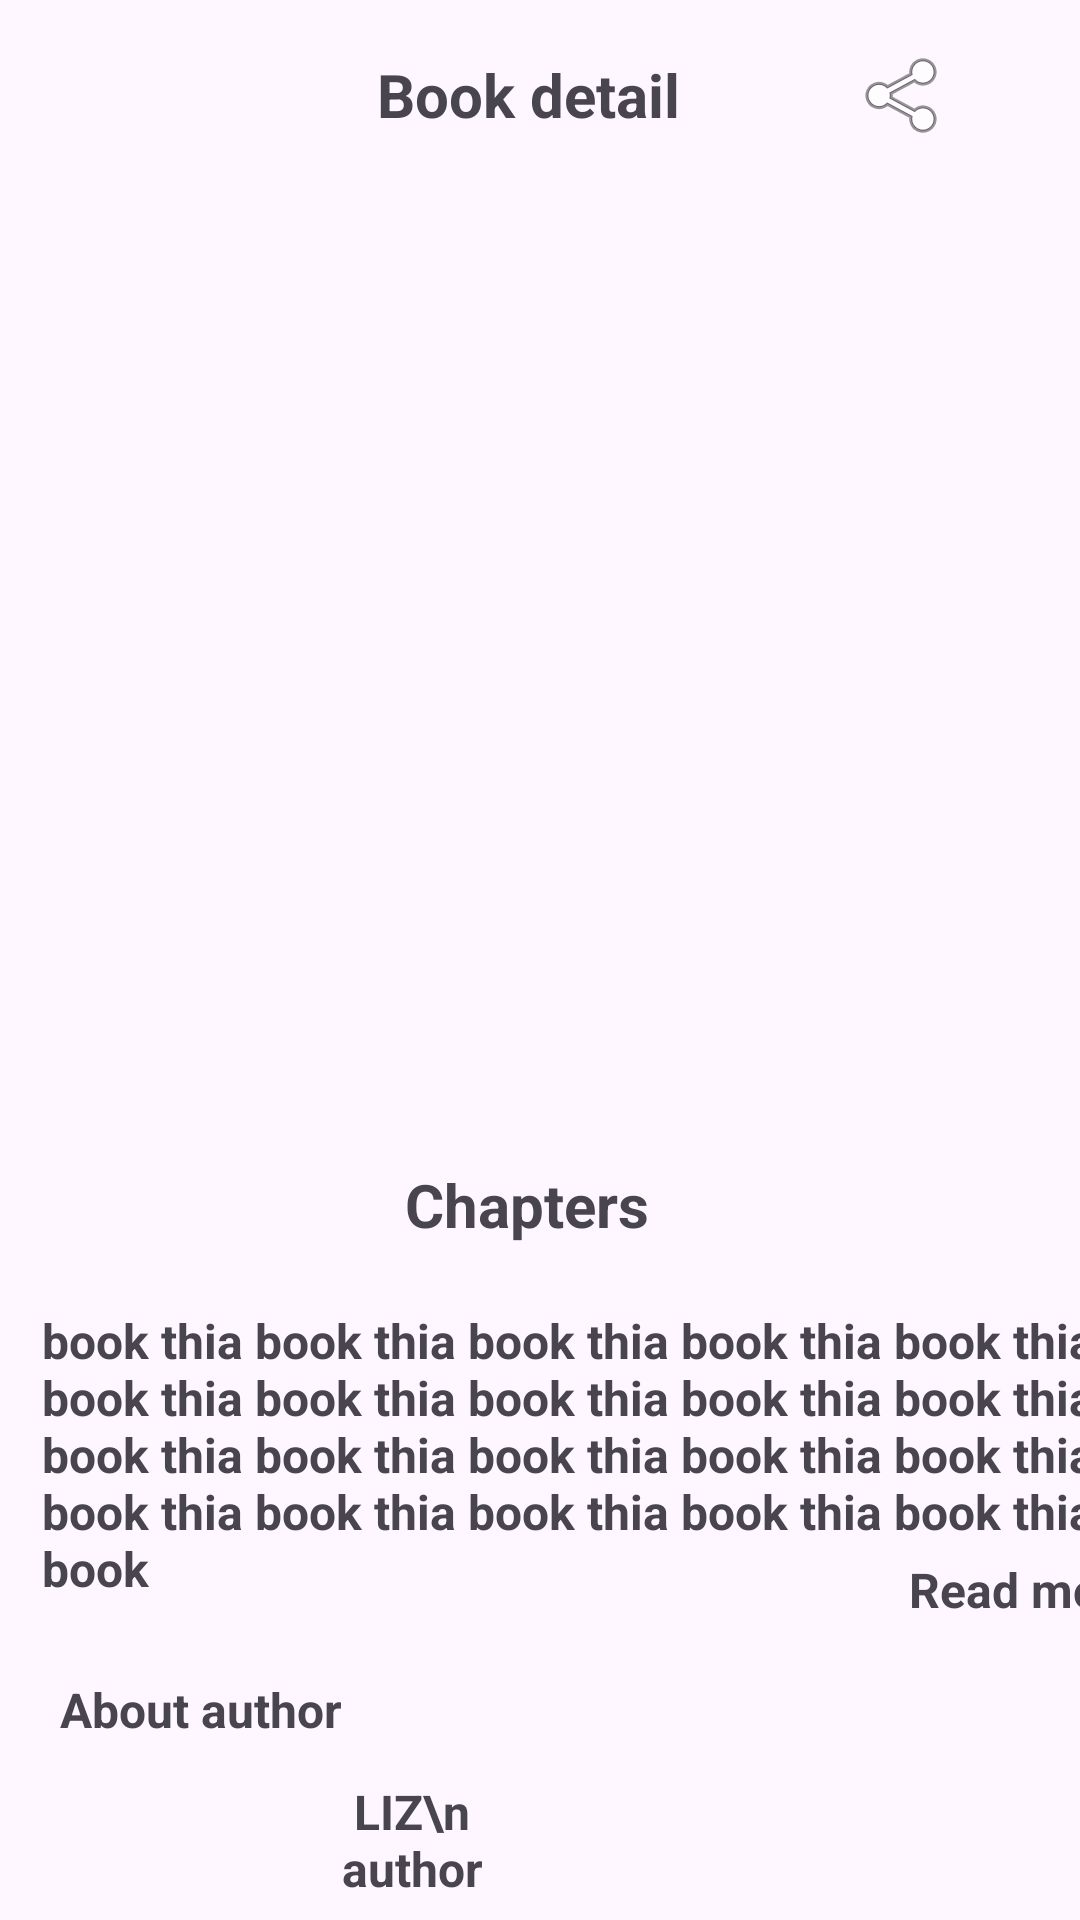

Screen size 1080px x 1920px. Icon name, then its center in pixels as (x=x, y=y):
share: (x=901, y=95)
